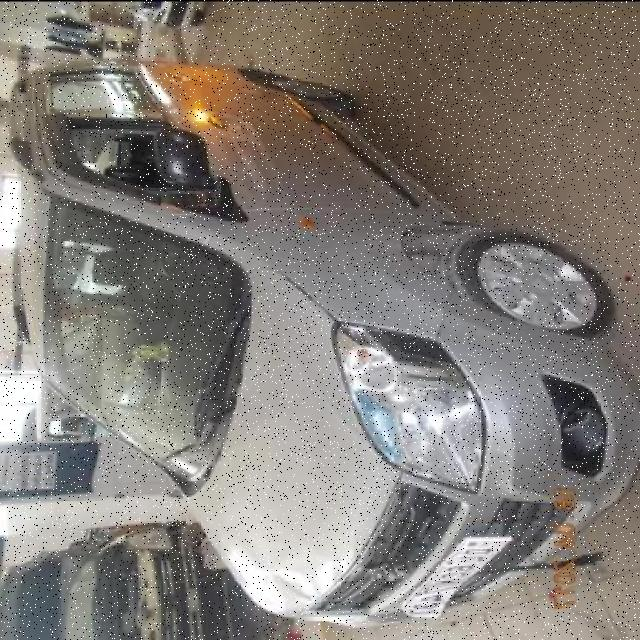damage: (260, 566, 322, 607)
